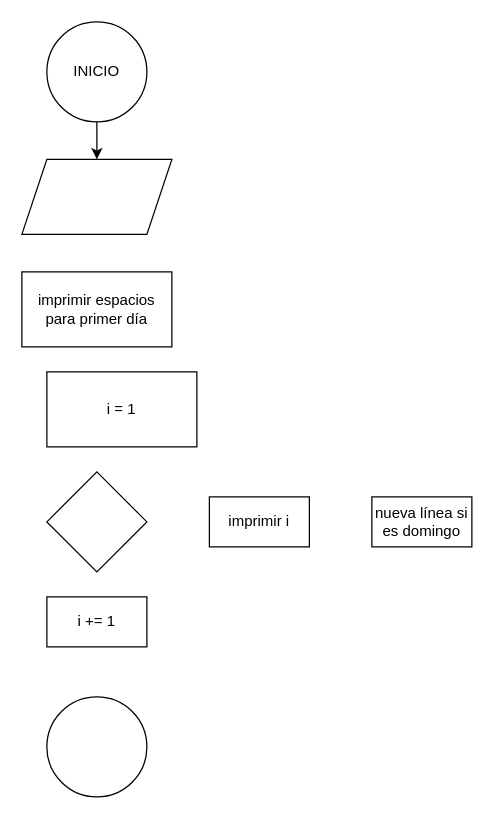
The diagram is 494 pixels wide and 819 high, and some of its shapes have lost their labels. Each missing label, with the centre of its shape:
FIN: [96,746]
i <= k: [96,521]
INPUT n, k: [96,196]
